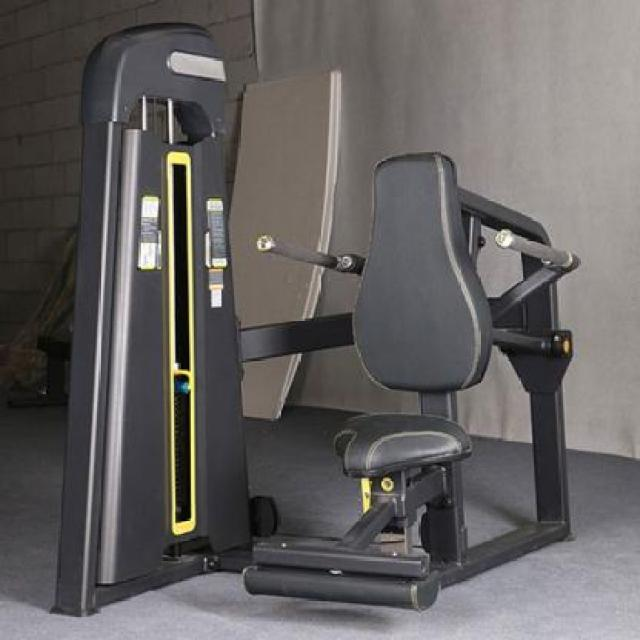seated dip machine: (46, 152, 583, 617)
